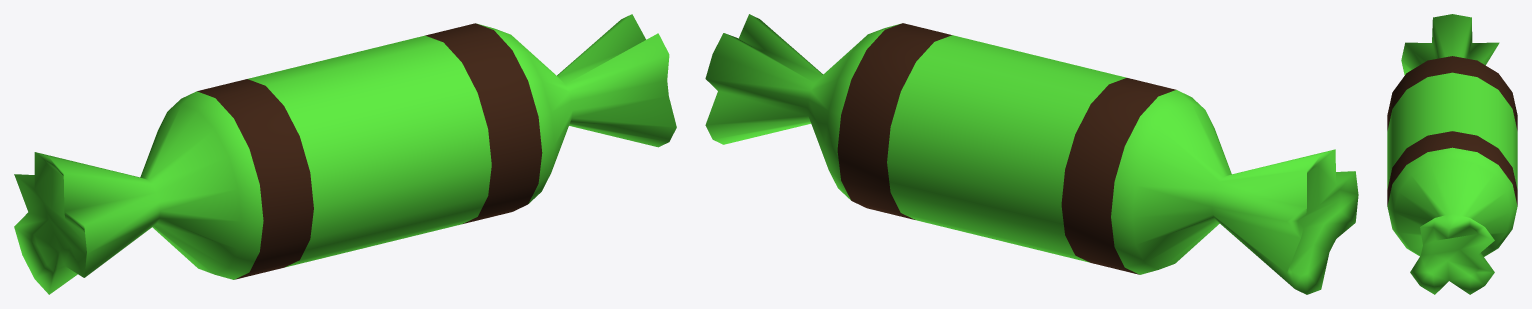
The model's file is Candy1.glb.
The picture shows the model from 3 angles, left to right: view 1: azimuth 30°, elevation 25°; view 2: azimuth 150°, elevation 25°; view 3: azimuth 270°, elevation 25°; orthographic projection. The views are drawn at different scales.
Parts seen in each view (by area): view 1: Candy1; view 2: Candy1; view 3: Candy1.
Part boxes in pixels (left/top/right/bottom): Candy1: left=14, top=14, right=676, bottom=294; Candy1: left=705, top=14, right=1358, bottom=294; Candy1: left=1387, top=14, right=1517, bottom=294.
Bounding box in the file's own units: 0.2108 × 0.0591 × 0.0591.
